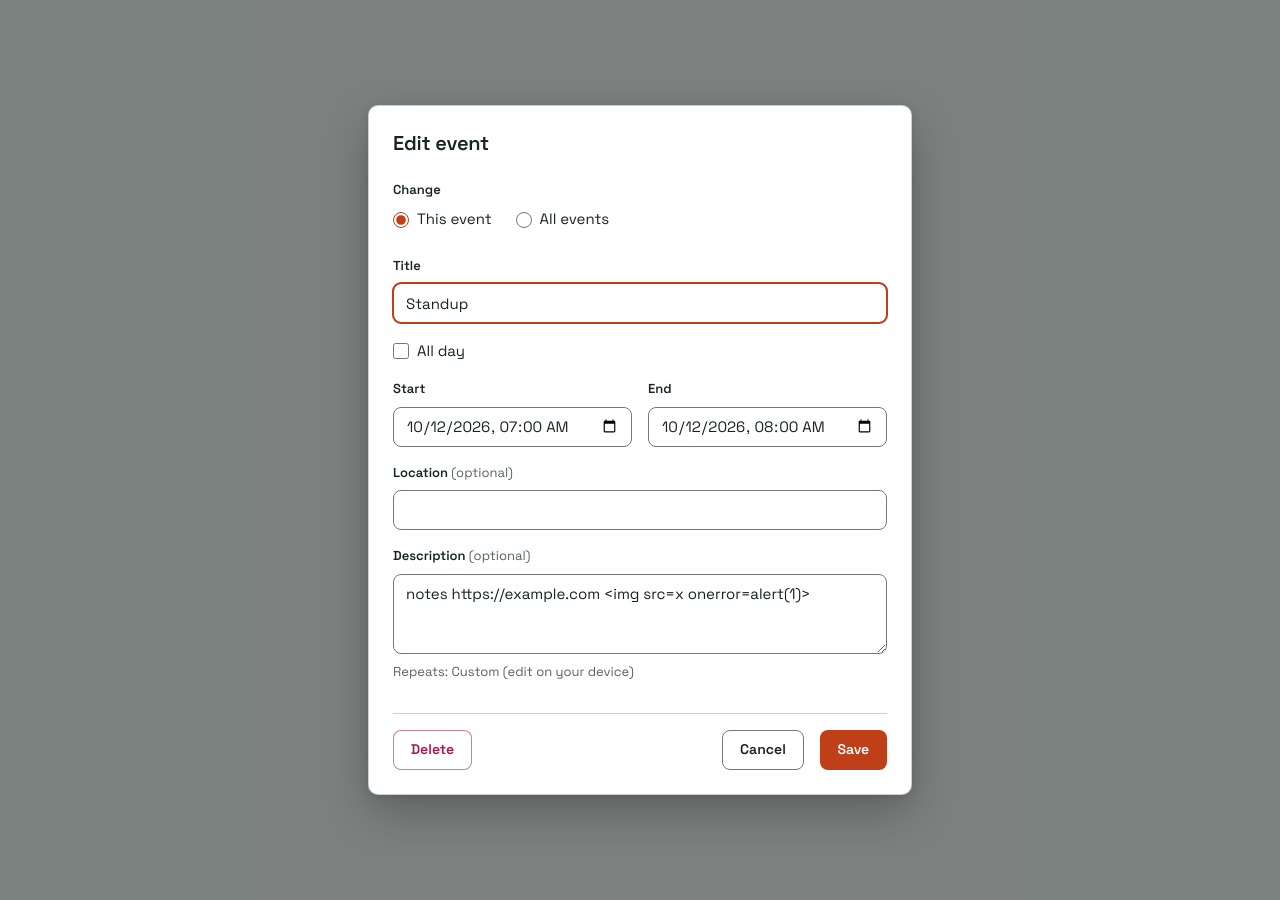
Test: EventDialog › reports a conflict and asks to reload
Click the button "Save": coordinates (853, 750) [820,730,887,770]
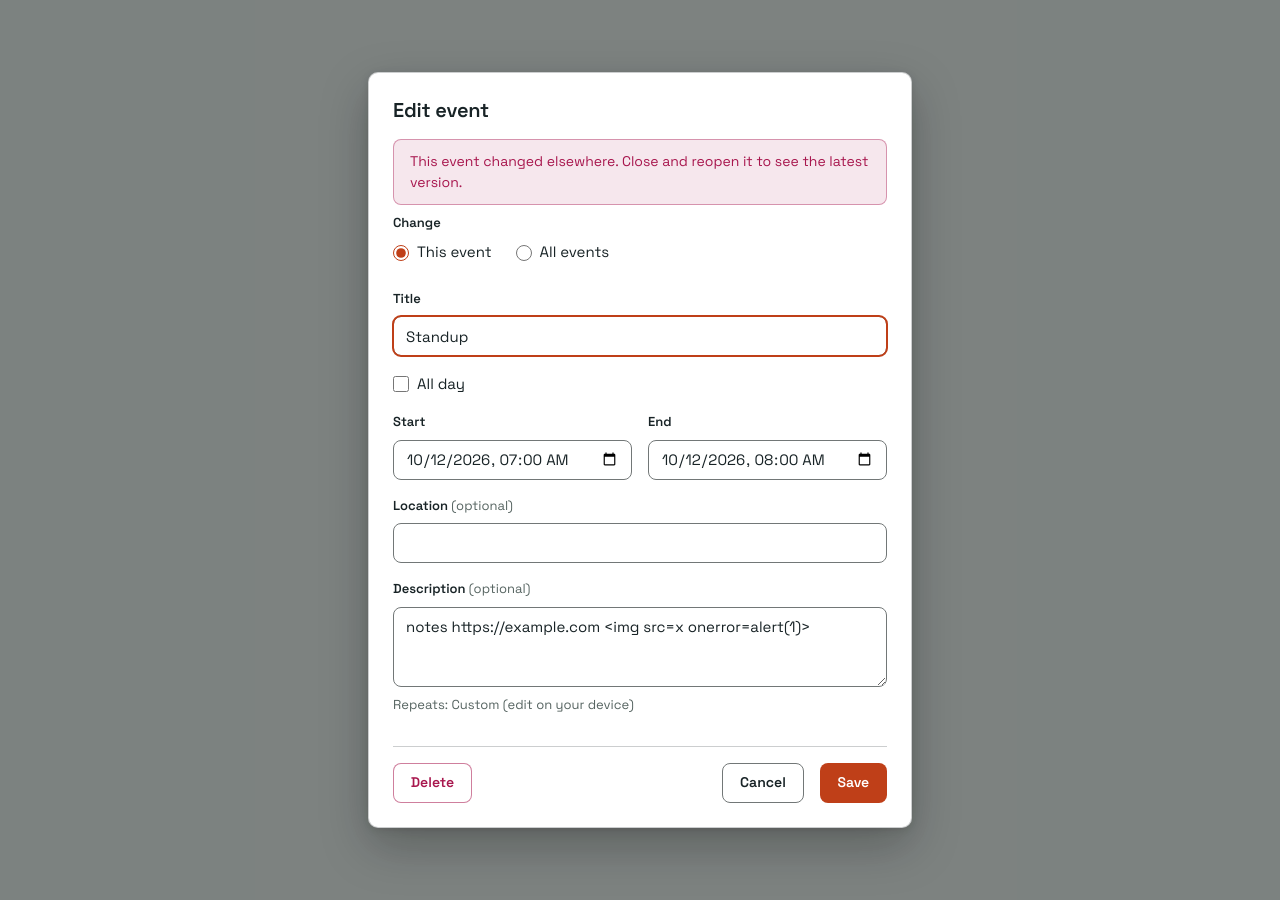
Expected: the message shows "changed elsewhere", [410,152,868,191]
